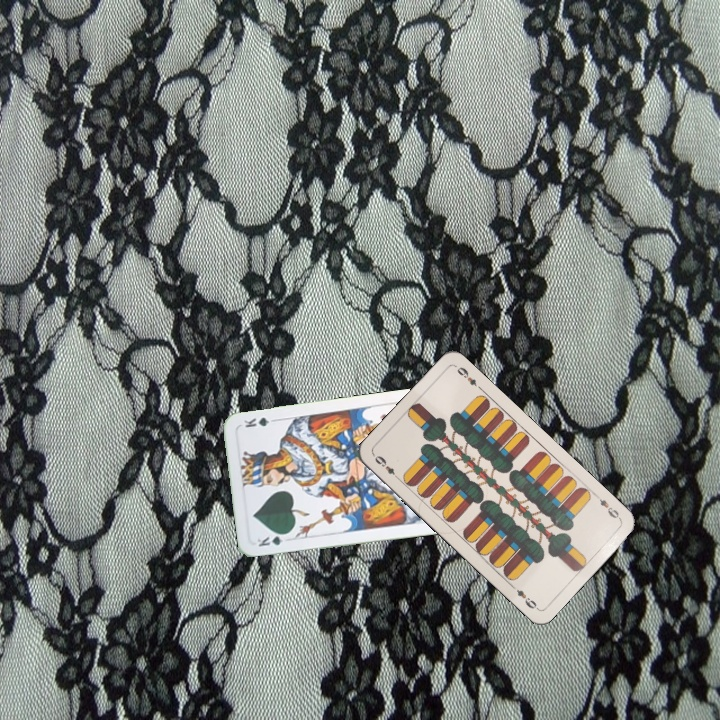E9: (591, 490, 623, 522), (371, 451, 403, 482)
GK: (253, 529, 292, 549)
